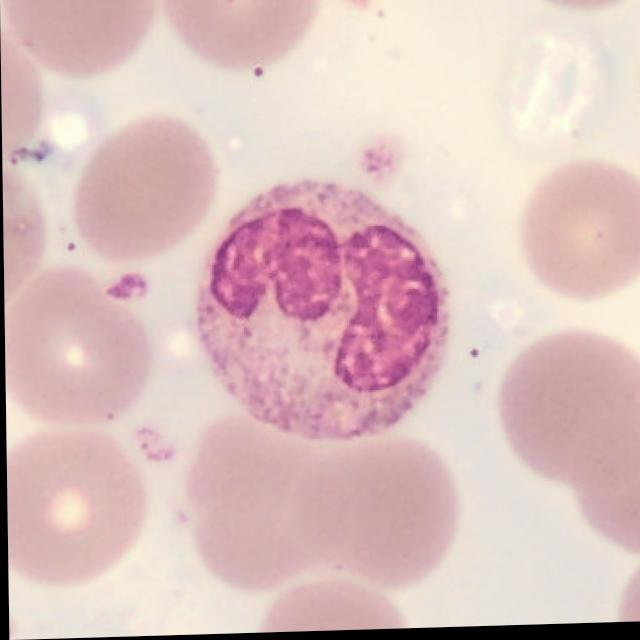Neutrofilo segmentado: (195, 184, 451, 445)
